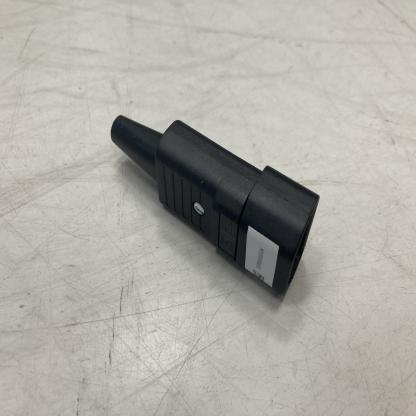SP0000004: (54, 44, 350, 353)
